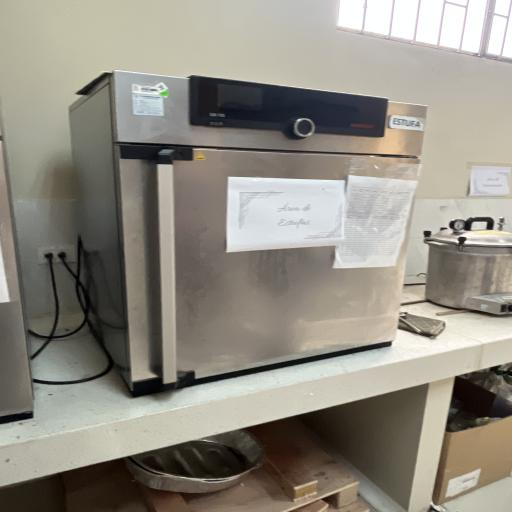Estufa_Memmert: (58, 62, 442, 406)
